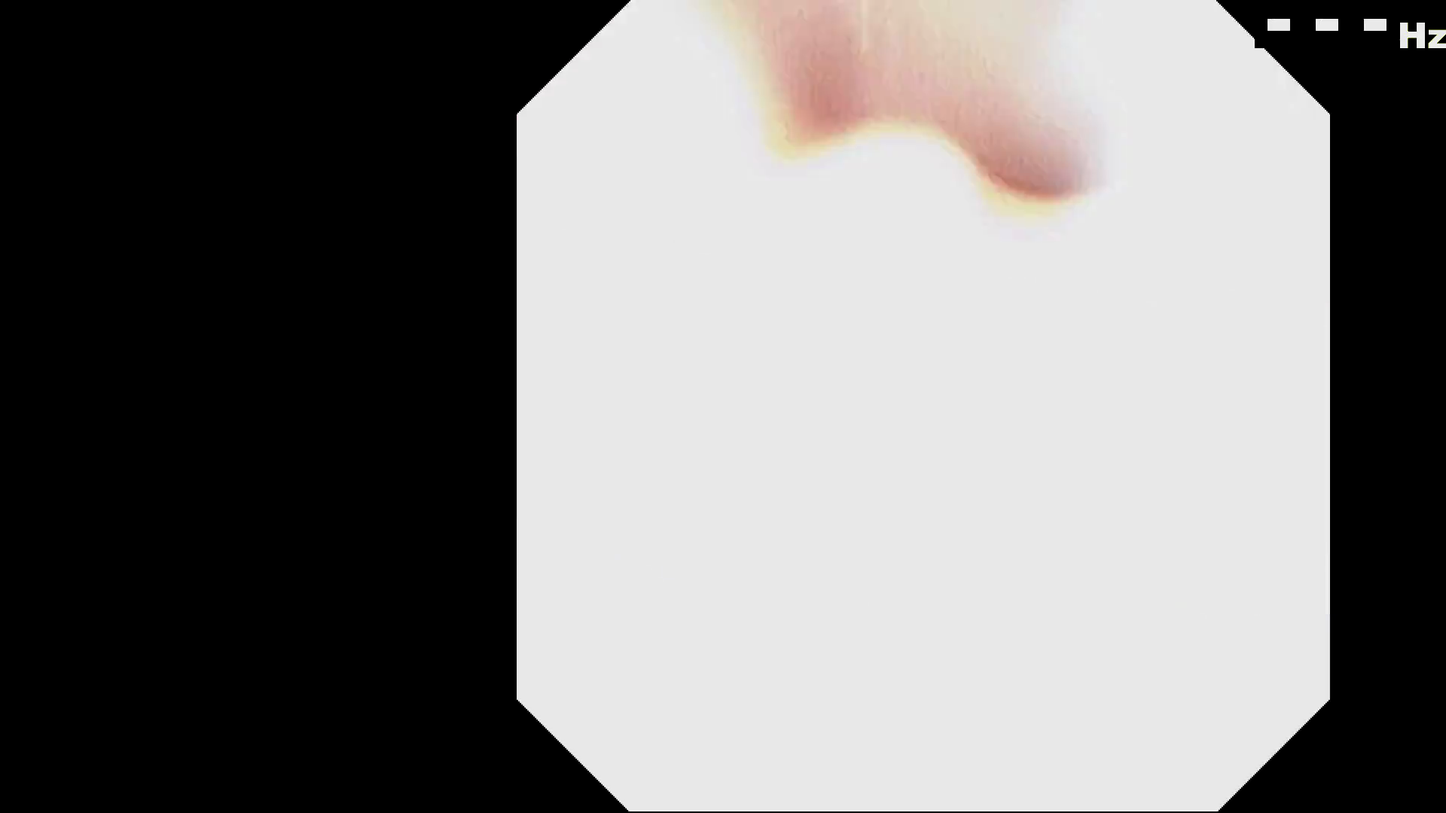epiglottis: (657, 508, 1220, 718)
trachea: (902, 448, 993, 566)
